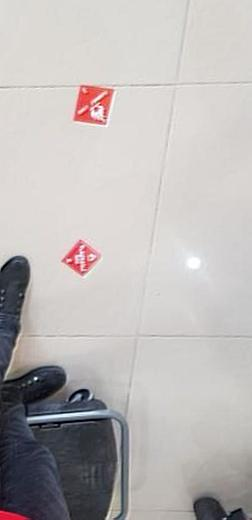flammable: (72, 80, 117, 131), (61, 238, 102, 280)
